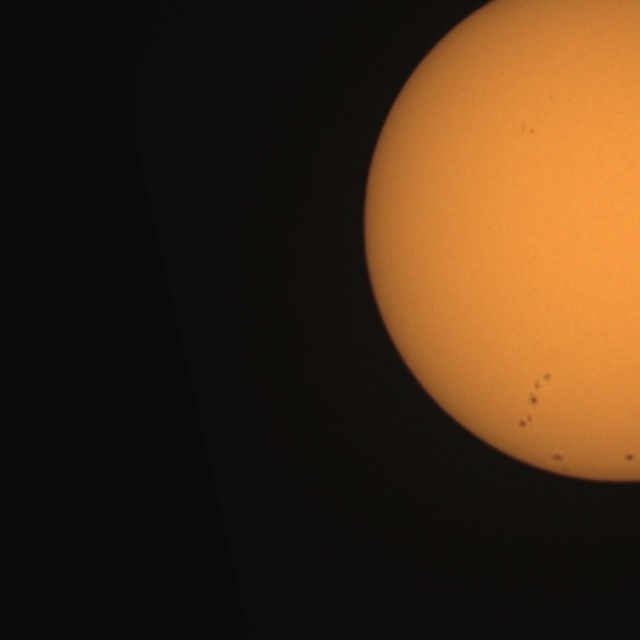sunspot: (527, 372, 552, 406), (518, 413, 534, 430), (518, 122, 536, 135), (550, 452, 566, 464), (624, 452, 636, 462)
